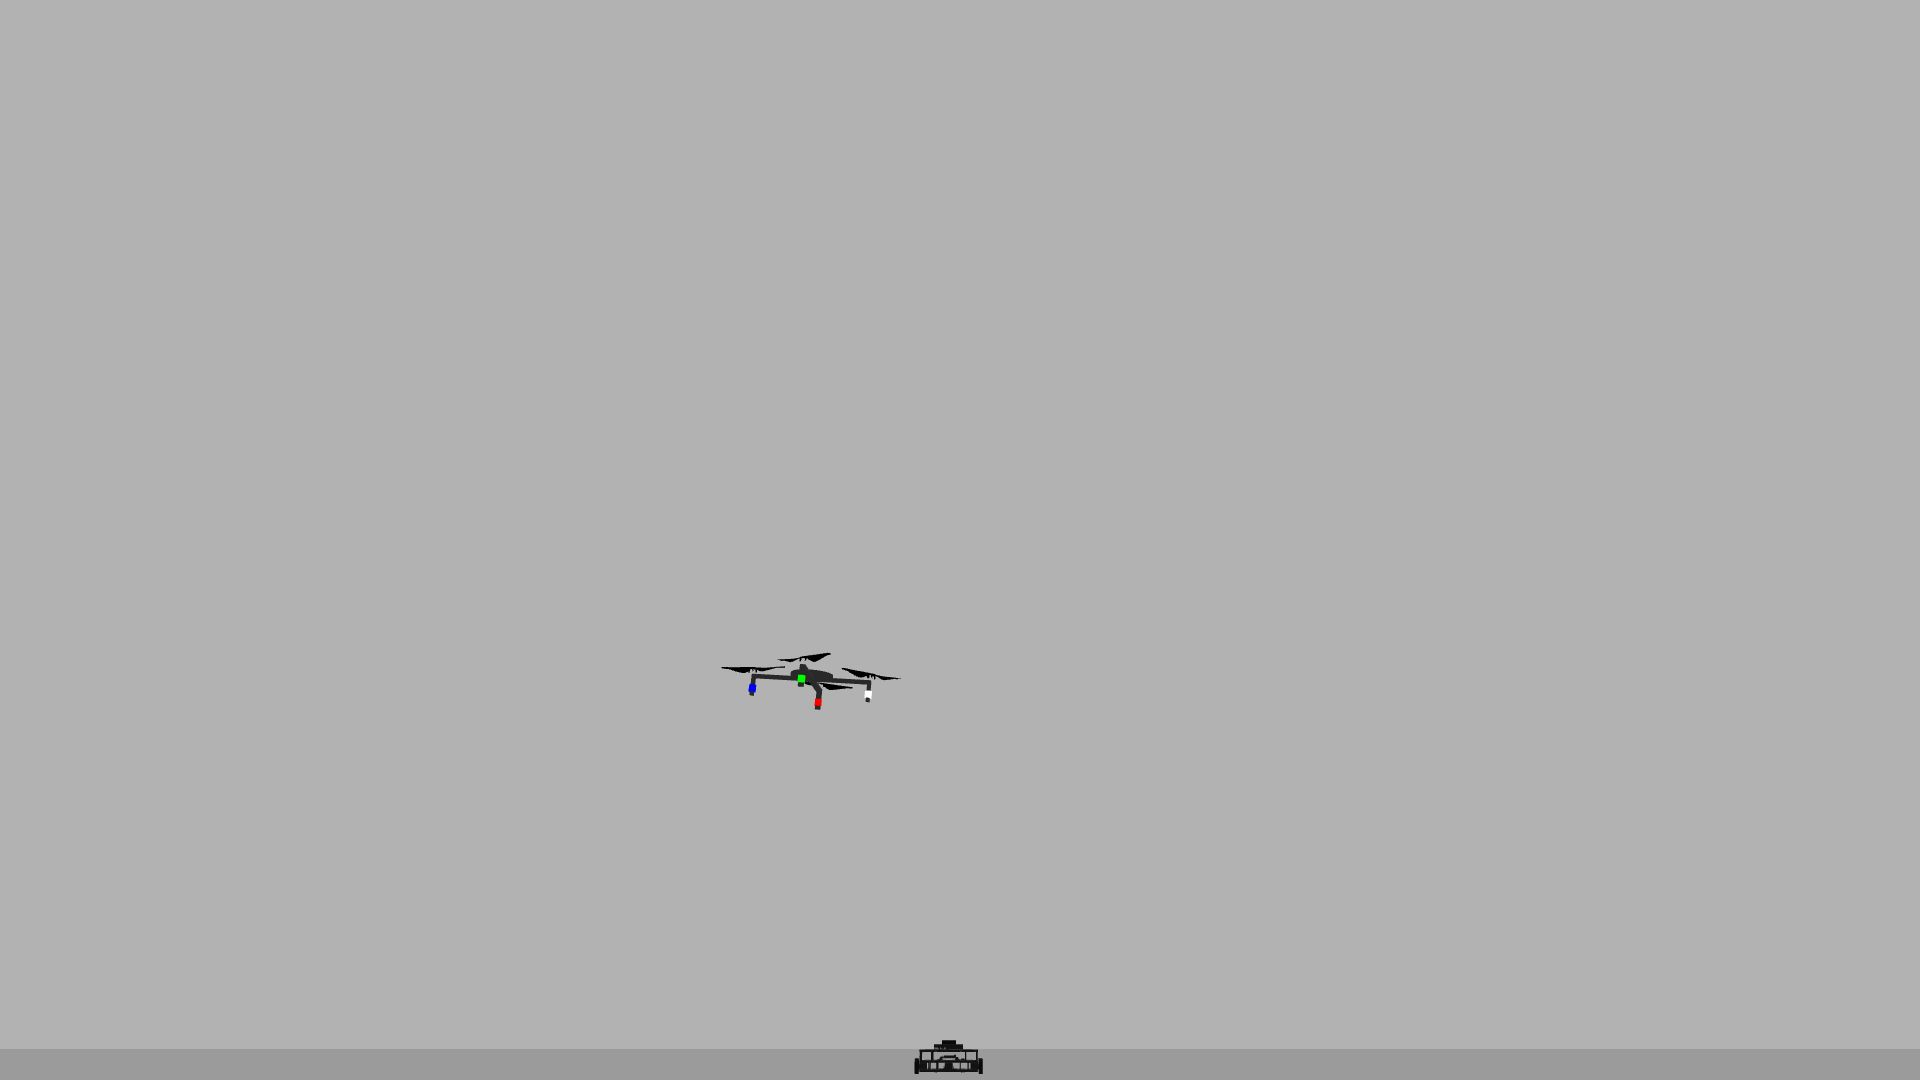drone: (717, 638, 914, 724)
